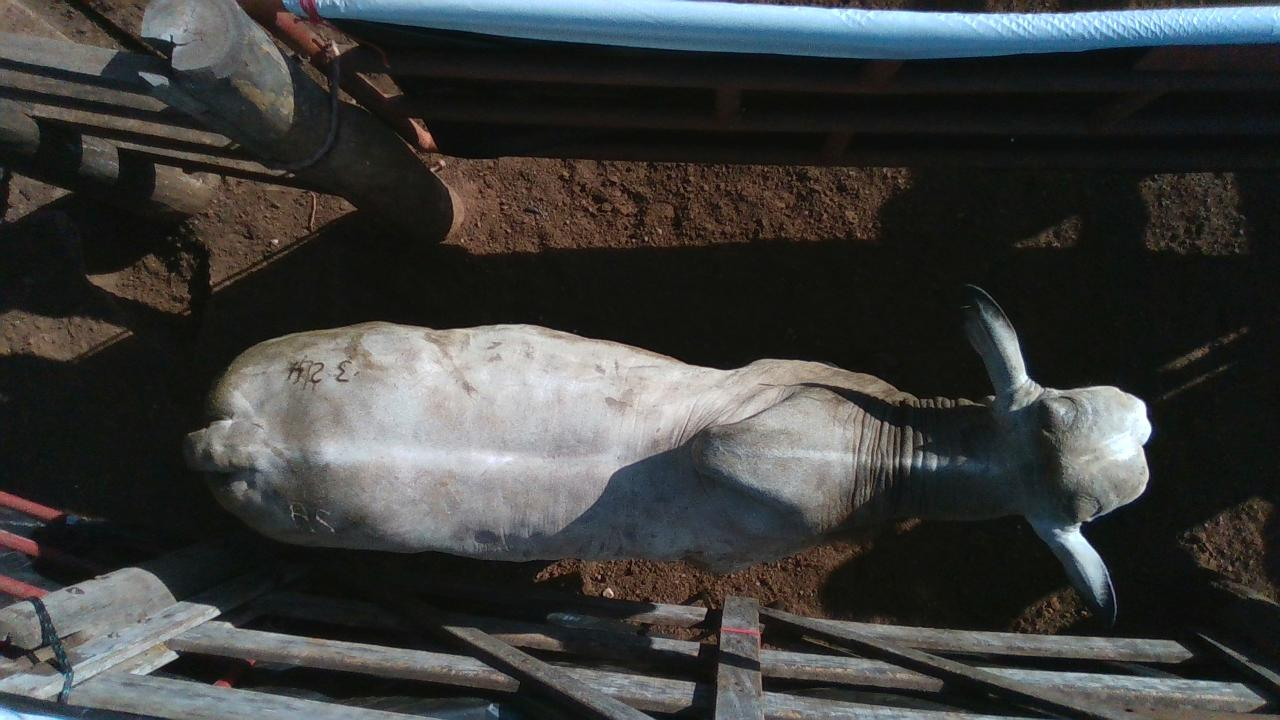cattle: (181, 281, 1153, 629)
